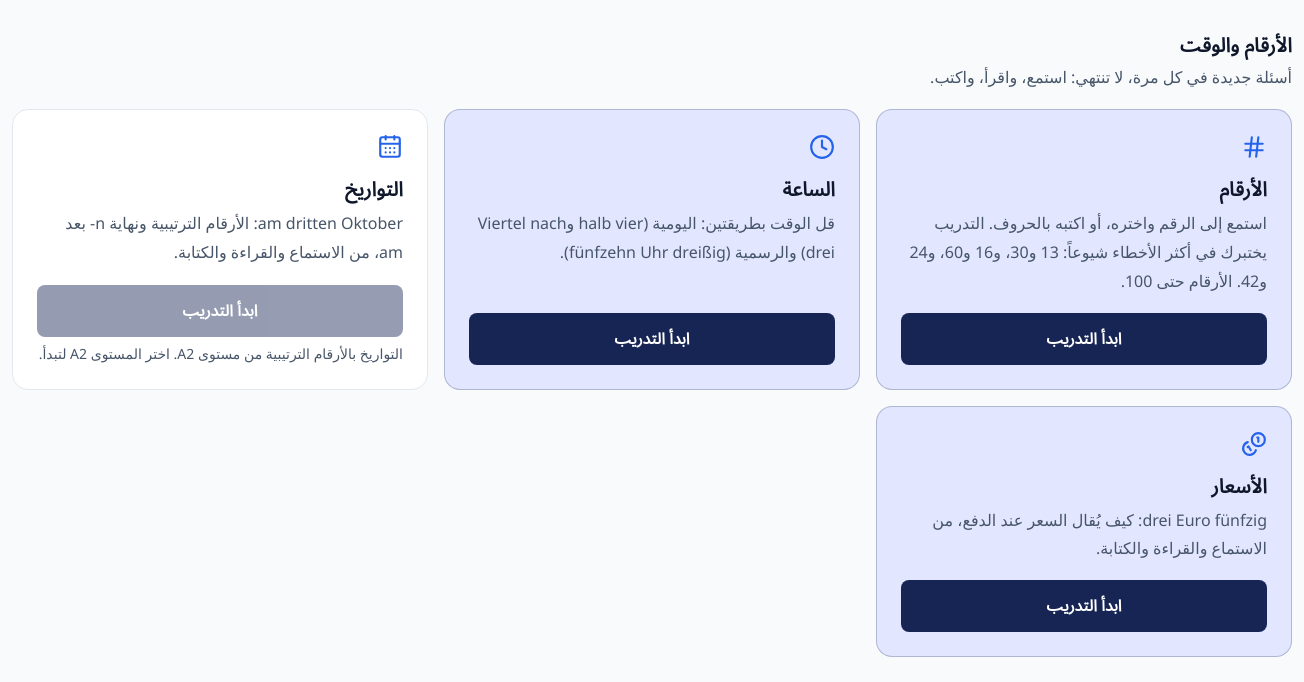
Test: PracticePage › starts a generated number session whose questions are about numbers
(page scrolled)
Click the button with aria-label "ابدأ التدريب: الأرقام" at (1084, 339), box [901,313,1267,365]
(page scrolled)
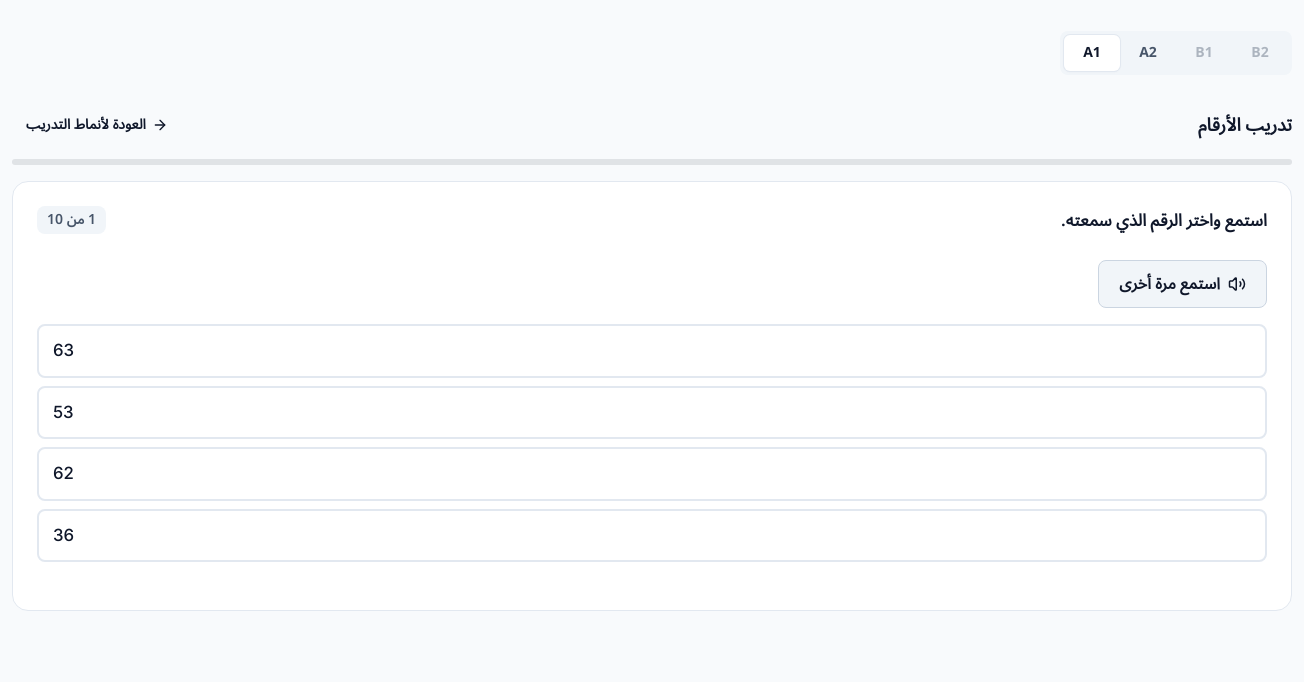
Expected: the heading "تدريب الأرقام" is shown, [1198,111,1292,139]
Result: the text "استمع واختر الرقم الذي سمعته." is shown at [1061,203,1267,238]
